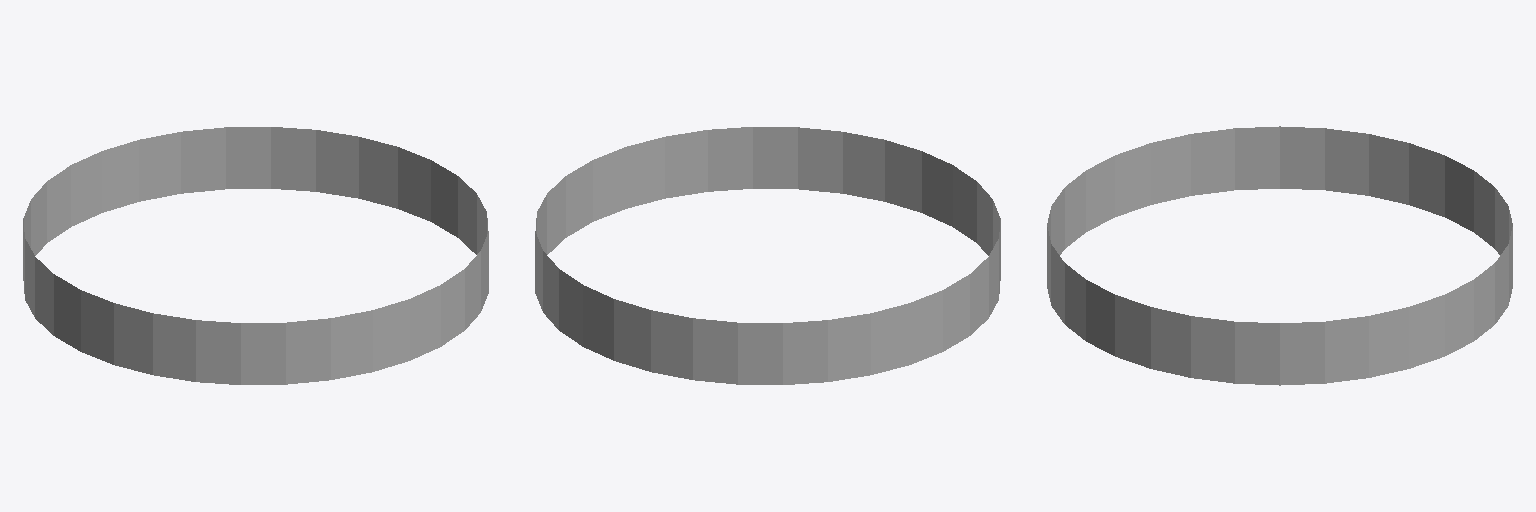
File: skygradient.obj
3 renders of one model, left to right at view 1: azimuth 30°, elevation 25°; view 2: azimuth 150°, elevation 25°; view 3: azimuth 270°, elevation 25°, orthographic.
Parts seen in each view (by area): view 1: Cylinder; view 2: Cylinder; view 3: Cylinder.
Part boxes in pixels (bbox=[...]): Cylinder: bbox=[23, 127, 488, 384]; Cylinder: bbox=[535, 127, 1000, 384]; Cylinder: bbox=[1047, 126, 1512, 385].
Size of the model in its own units: 13.6 by 2 by 13.6.